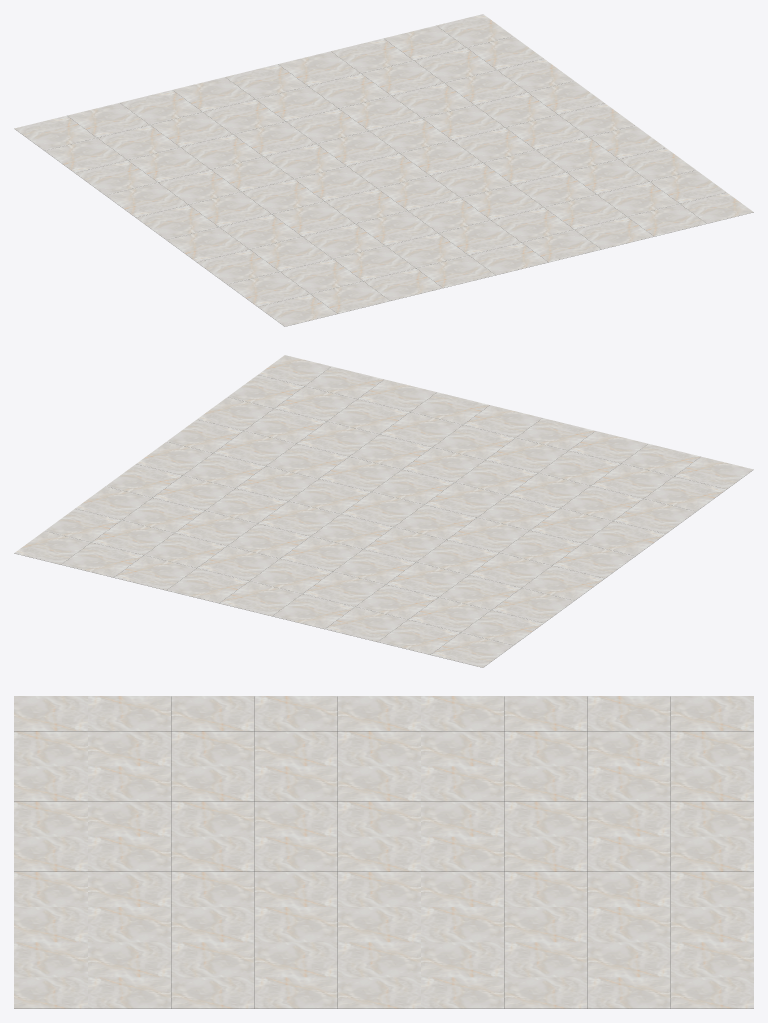
The model's file is unika-90x90.glb.
3 renders of one model, top to bottom at view 1: azimuth 30°, elevation 25°; view 2: azimuth 150°, elevation 25°; view 3: azimuth 270°, elevation 25°, orthographic. The views are drawn at different scales.
Visible parts, largest first — view 1: Unika; view 2: Unika; view 3: Unika.
Part boxes in pixels (left/top/right/bottom): Unika: left=14, top=14, right=753, bottom=326; Unika: left=14, top=355, right=753, bottom=667; Unika: left=14, top=696, right=753, bottom=1008.
Size of the model in its own units: 8 by 0.003 by 8.
Materials: 2 (1 with a texture image).
